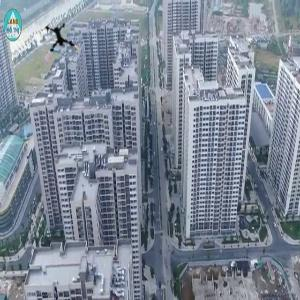drone: (40, 21, 84, 65)
